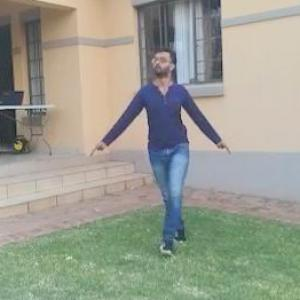land: (113, 62, 213, 220)
